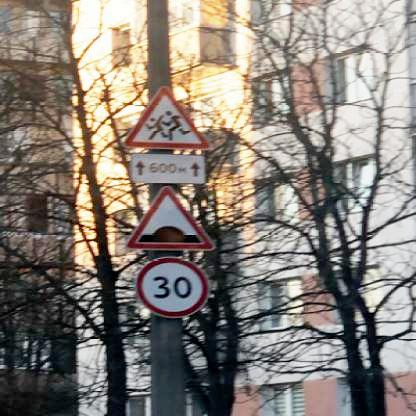Speed Limit -30-: (138, 258, 211, 318)
